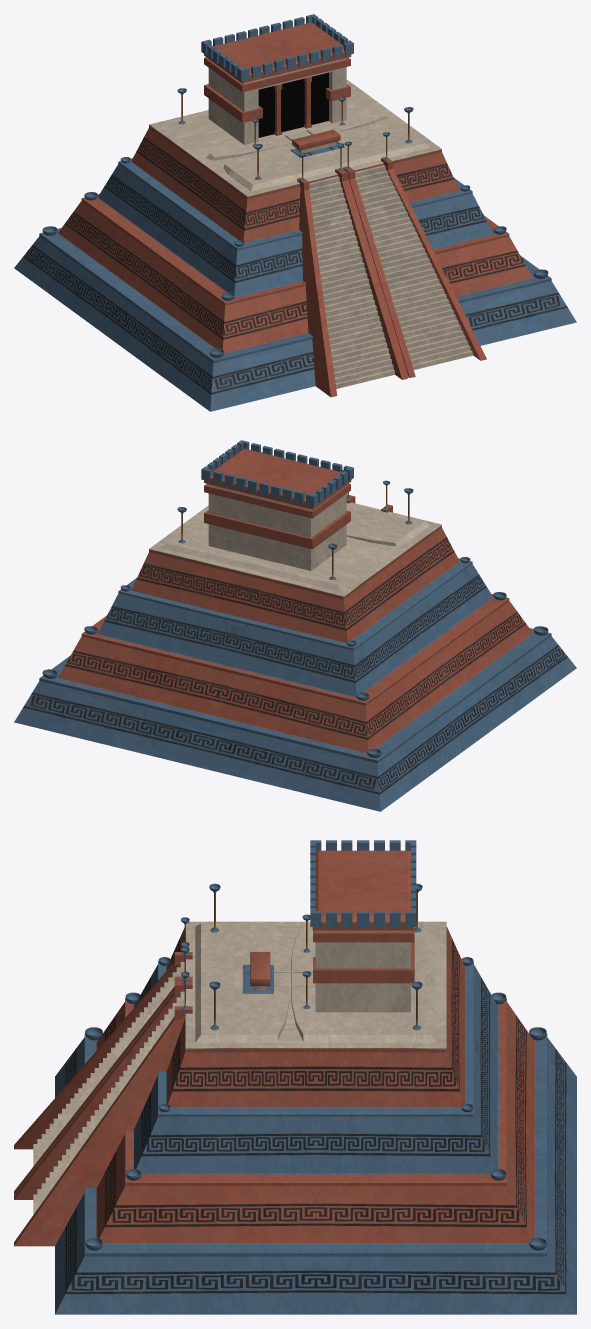
The model's file is EscuelaPesados.fbx.
3 views of the same model, one above another, from view 1: azimuth 30°, elevation 25°; view 2: azimuth 150°, elevation 25°; view 3: azimuth 270°, elevation 25° (orthographic). The views are drawn at different scales.
Visible parts, largest first — view 1: Pesados; view 2: Pesados; view 3: Pesados.
Part boxes in pixels (x1,y1,x2,y2): Pesados: [14, 14, 576, 411]; Pesados: [14, 440, 576, 811]; Pesados: [14, 840, 576, 1314].
Size of the model in its own units: 800 by 500 by 800.
1 material, 1 textured.
